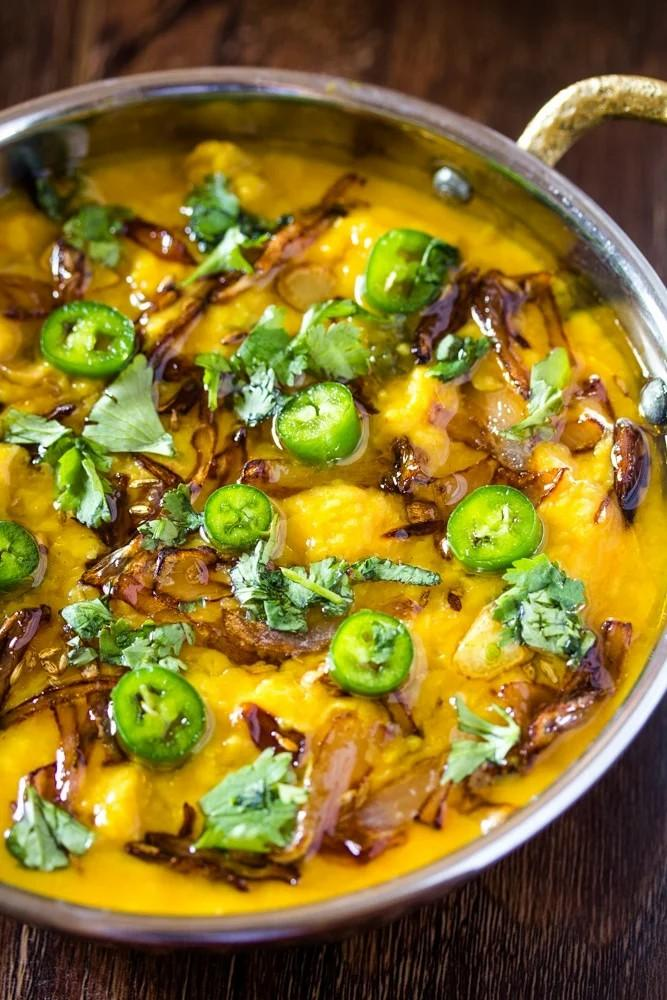Dal: (0, 132, 667, 918)
